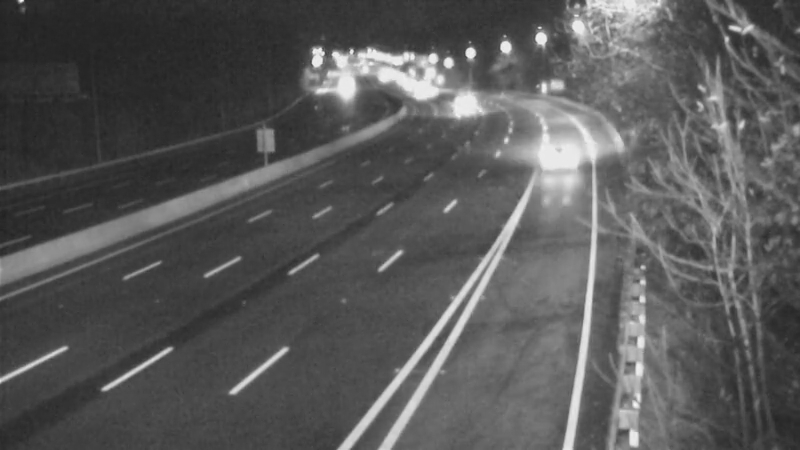vehicle: (506, 112, 586, 192), (398, 66, 448, 116), (440, 73, 490, 123)
